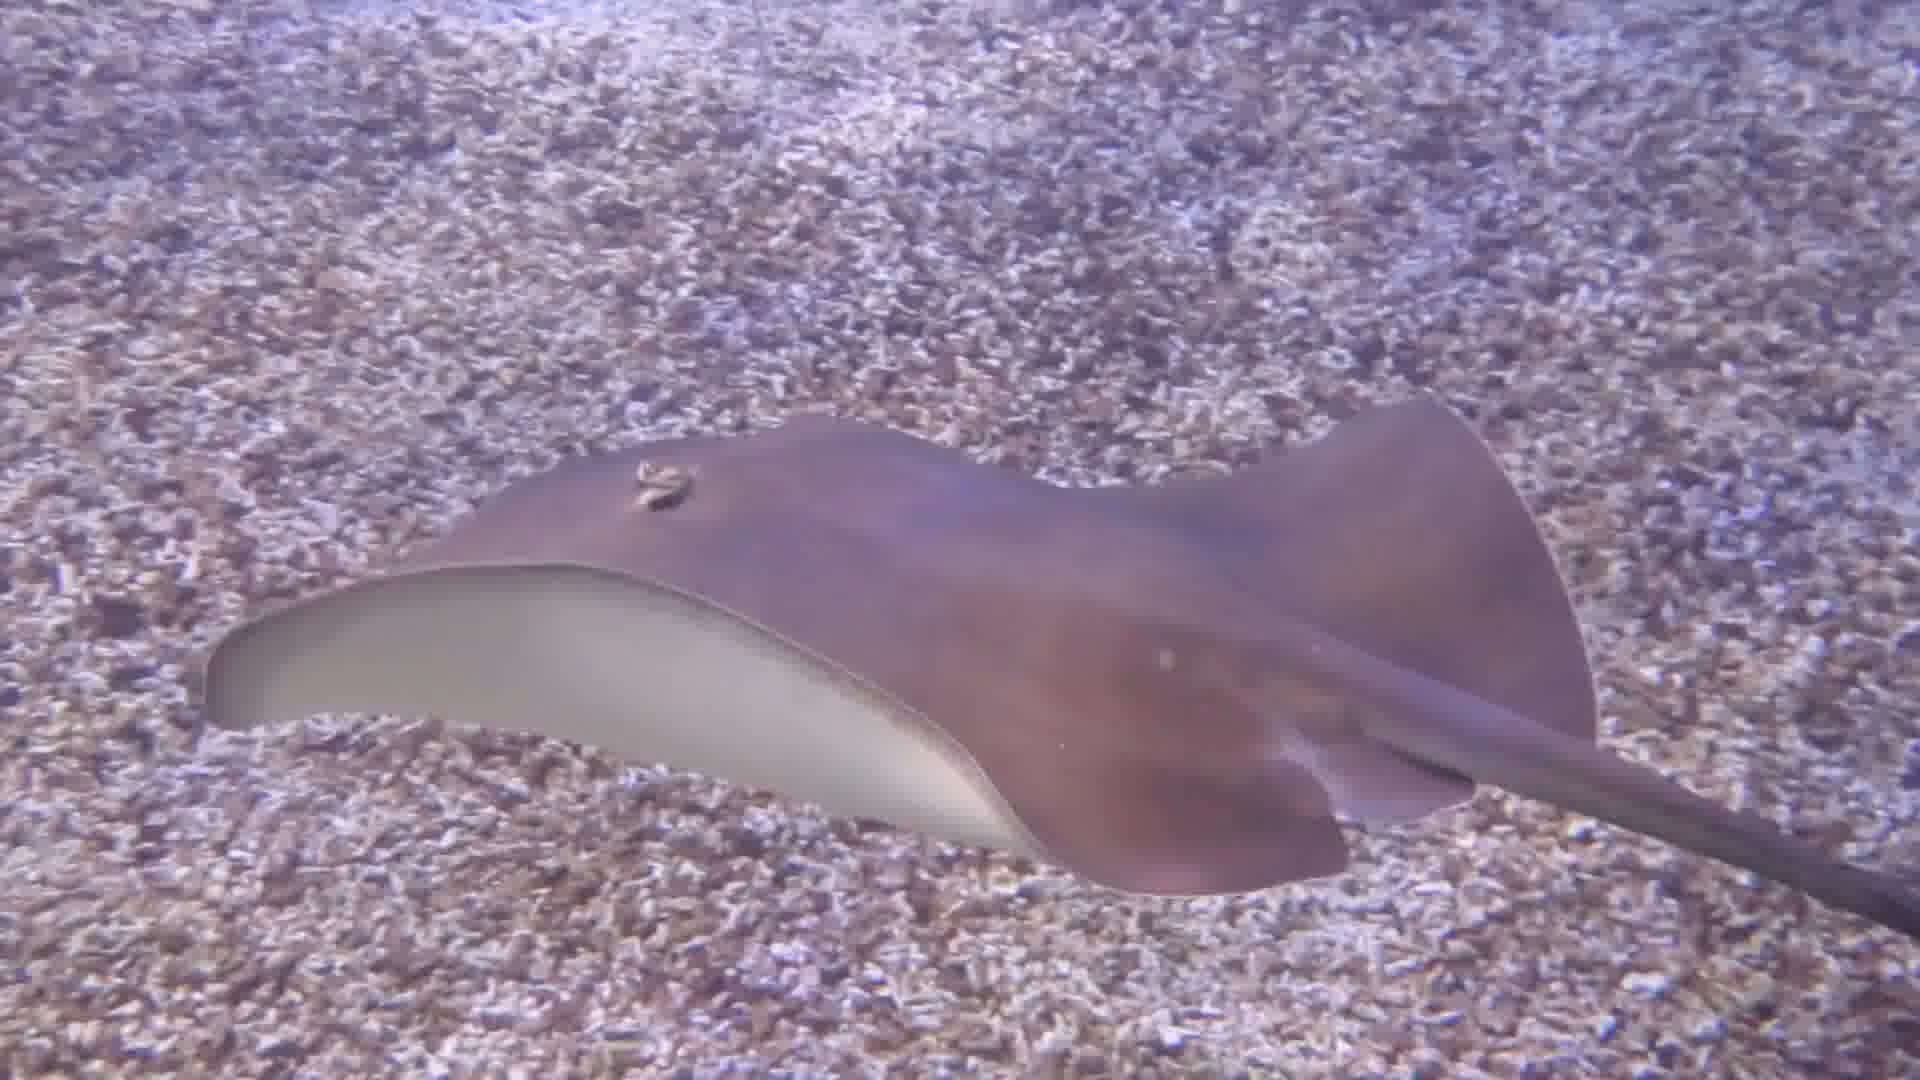Dasyatis akajei: (200, 371, 1875, 1080)
